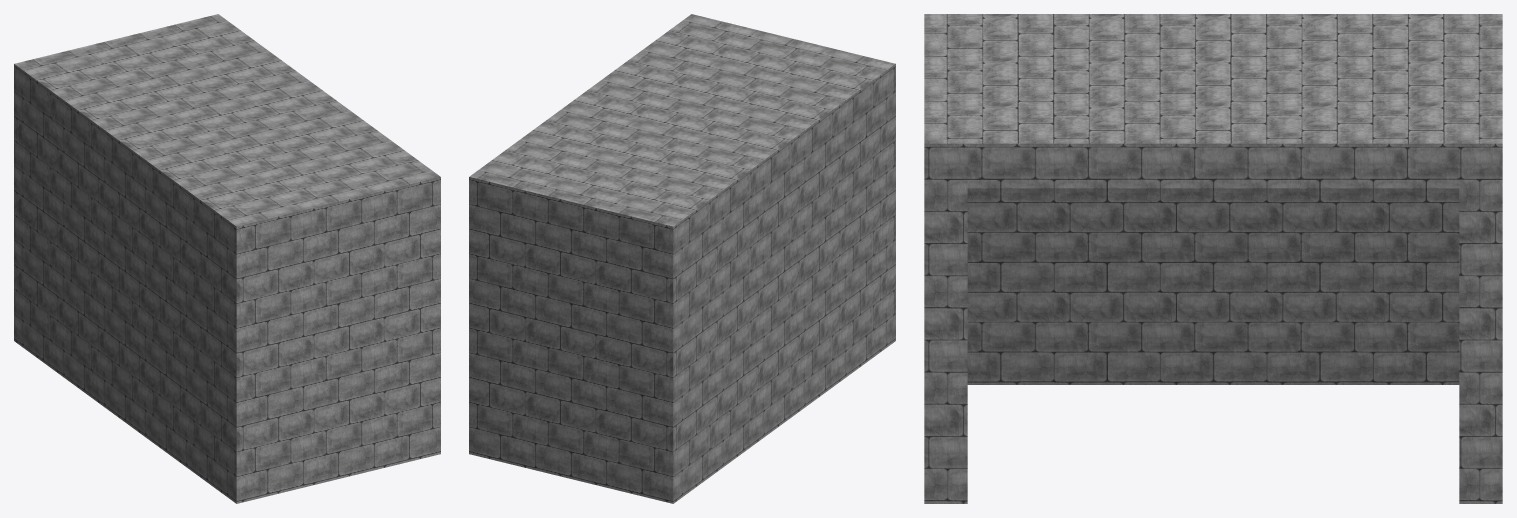
File: tunnel.fbx
3 views of the same model, side by side, from view 1: azimuth 30°, elevation 25°; view 2: azimuth 150°, elevation 25°; view 3: azimuth 270°, elevation 25° (orthographic). The views are drawn at different scales.
Visible parts, largest first — view 1: Base.004; view 2: Base.004; view 3: Base.004.
Boxes of the visible parts, bbox=[...] form: Base.004: bbox=[14, 14, 440, 503]; Base.004: bbox=[469, 14, 895, 503]; Base.004: bbox=[924, 14, 1502, 503].
Size of the model in its own units: 500 by 649 by 944.
